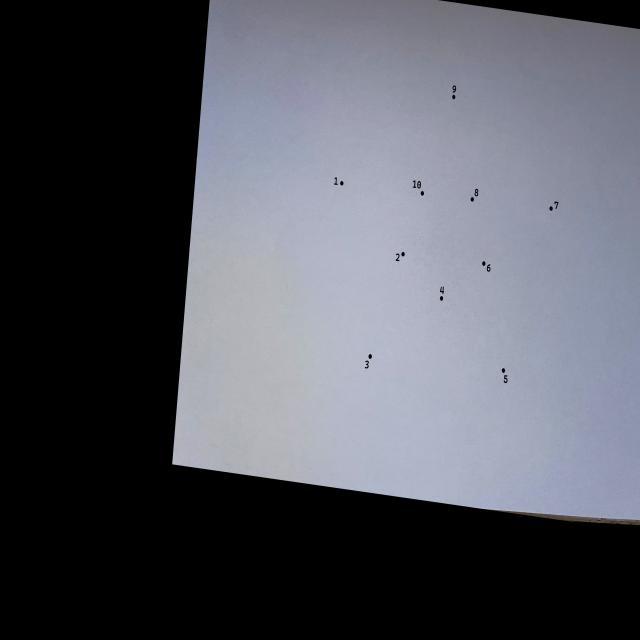Dot: (340, 180, 344, 186), (452, 94, 456, 100), (549, 206, 553, 211), (482, 261, 486, 266), (368, 354, 372, 359), (401, 252, 405, 256), (421, 191, 424, 196), (471, 197, 474, 202), (440, 296, 443, 301), (502, 368, 505, 373)
DotNumber: (413, 180, 424, 196), (365, 353, 372, 369), (549, 201, 559, 211), (482, 261, 491, 272), (471, 189, 478, 202), (334, 177, 344, 186), (396, 252, 405, 262), (502, 368, 508, 383), (452, 85, 456, 100), (440, 286, 444, 301)
Number: (413, 180, 421, 189), (554, 201, 559, 210), (452, 85, 457, 93), (486, 264, 491, 272), (474, 188, 478, 197), (365, 360, 369, 369), (504, 374, 508, 383), (334, 177, 338, 185), (440, 286, 444, 294), (396, 253, 400, 261)
